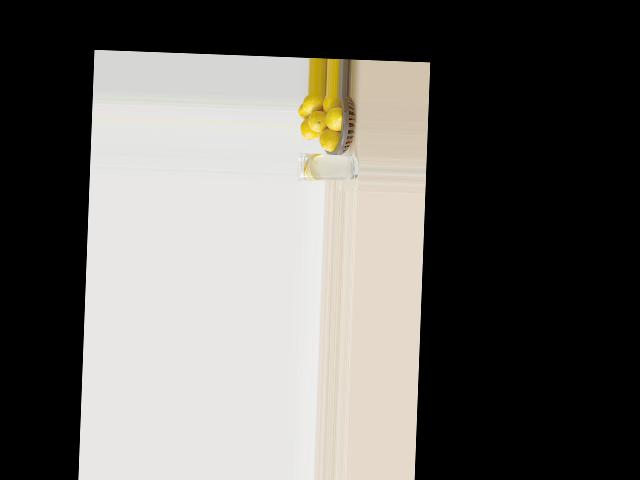lemon: (300, 94, 325, 116)
